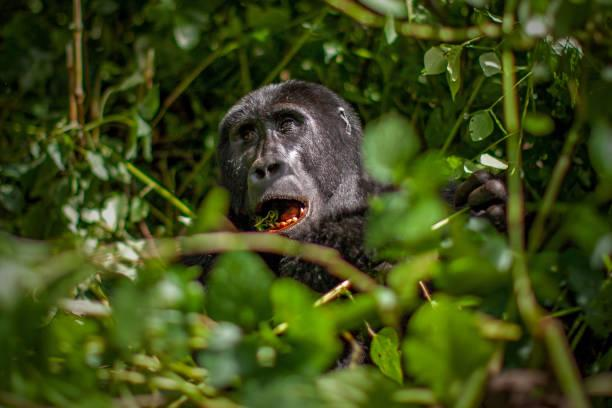goriile_montagne: (206, 86, 398, 315)
